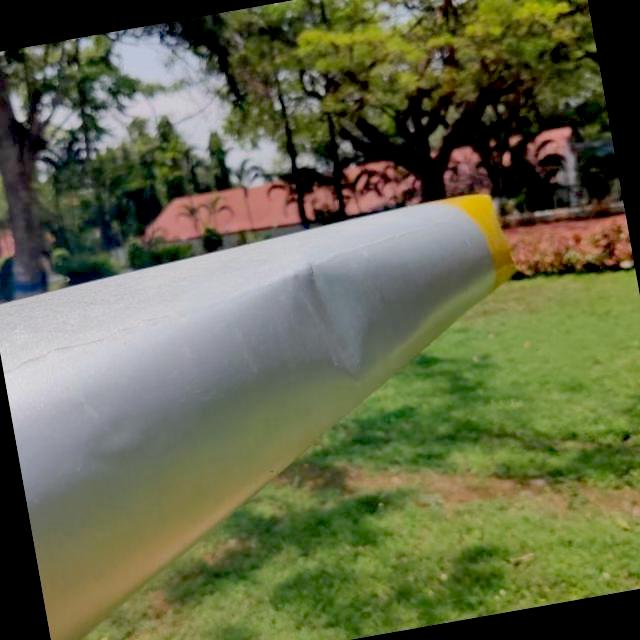dent: (293, 243, 389, 377)
